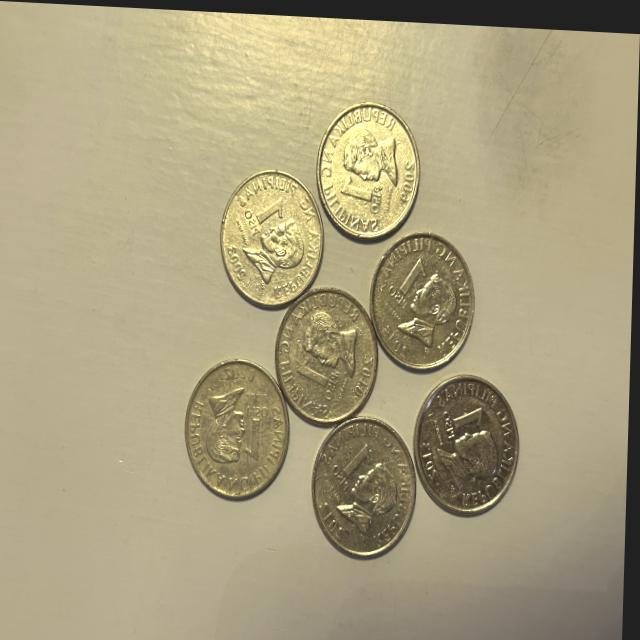1_Old_Front: (338, 164, 390, 225), (295, 342, 346, 399), (441, 390, 492, 443), (335, 426, 379, 484), (246, 393, 282, 461), (389, 253, 429, 314), (243, 189, 294, 235)
